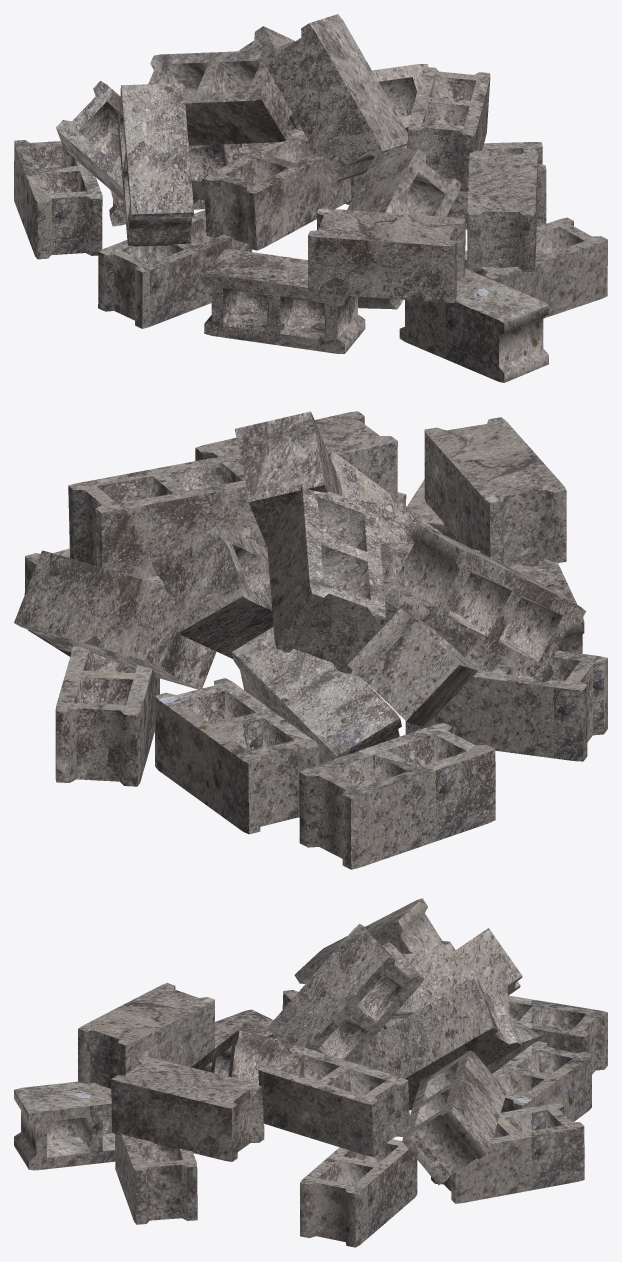
The model's file is Rubble.FBX.
3 renders of one model, top to bottom at view 1: azimuth 30°, elevation 25°; view 2: azimuth 150°, elevation 25°; view 3: azimuth 270°, elevation 25°, orthographic. The views are drawn at different scales.
Parts seen in each view (by area): view 1: rubble; view 2: rubble; view 3: rubble.
Boxes of the visible parts, bbox=[...] form: rubble: bbox=[14, 14, 607, 382]; rubble: bbox=[14, 411, 607, 869]; rubble: bbox=[14, 898, 607, 1247].
Bounding box in the file's own units: 10.58 × 5.33 × 12.94.
1 material, 1 textured.
